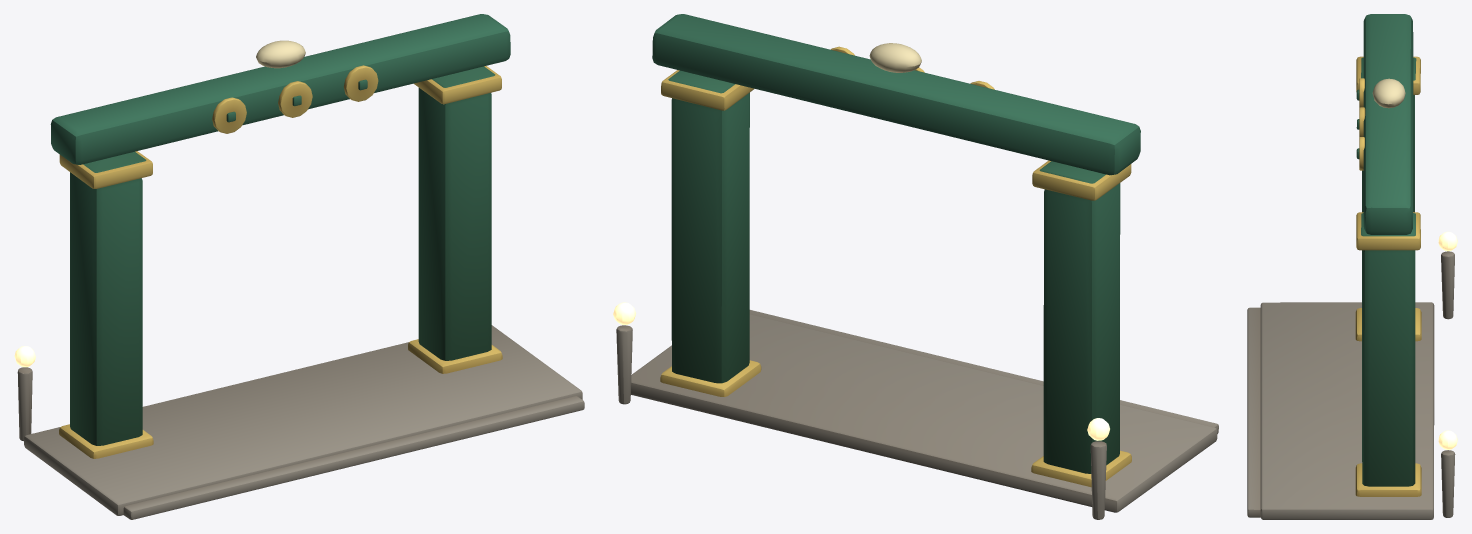
The picture shows the model from 3 angles, left to right: view 1: azimuth 30°, elevation 25°; view 2: azimuth 150°, elevation 25°; view 3: azimuth 270°, elevation 25°; orthographic projection. The views are drawn at different scales.
Visible parts, largest first — view 1: gate_4431b1ef; view 2: gate_4431b1ef; view 3: gate_4431b1ef.
Part boxes in pixels (x1=…): gate_4431b1ef: x1=14, y1=14, x2=584, y2=519; gate_4431b1ef: x1=613, y1=14, x2=1218, y2=519; gate_4431b1ef: x1=1247, y1=14, x2=1457, y2=519.
Bounding box in the file's own units: 5.96 × 4.48 × 2.54.
